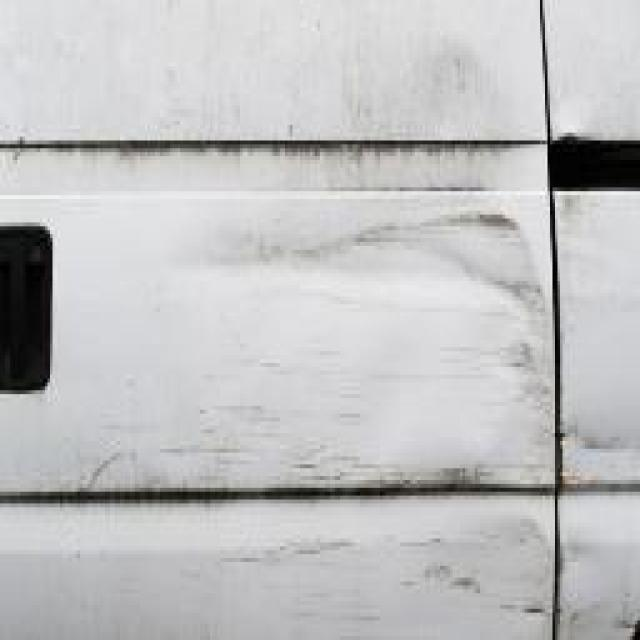Door: (0, 98, 550, 640)
